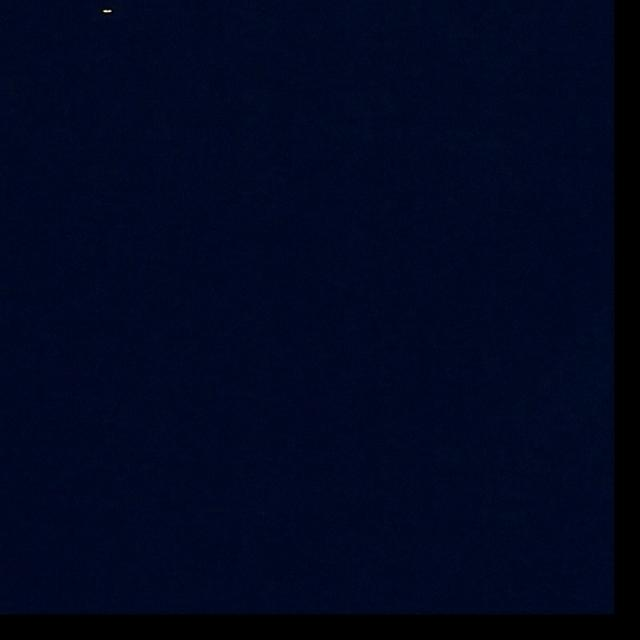ship: (104, 10, 113, 14)
